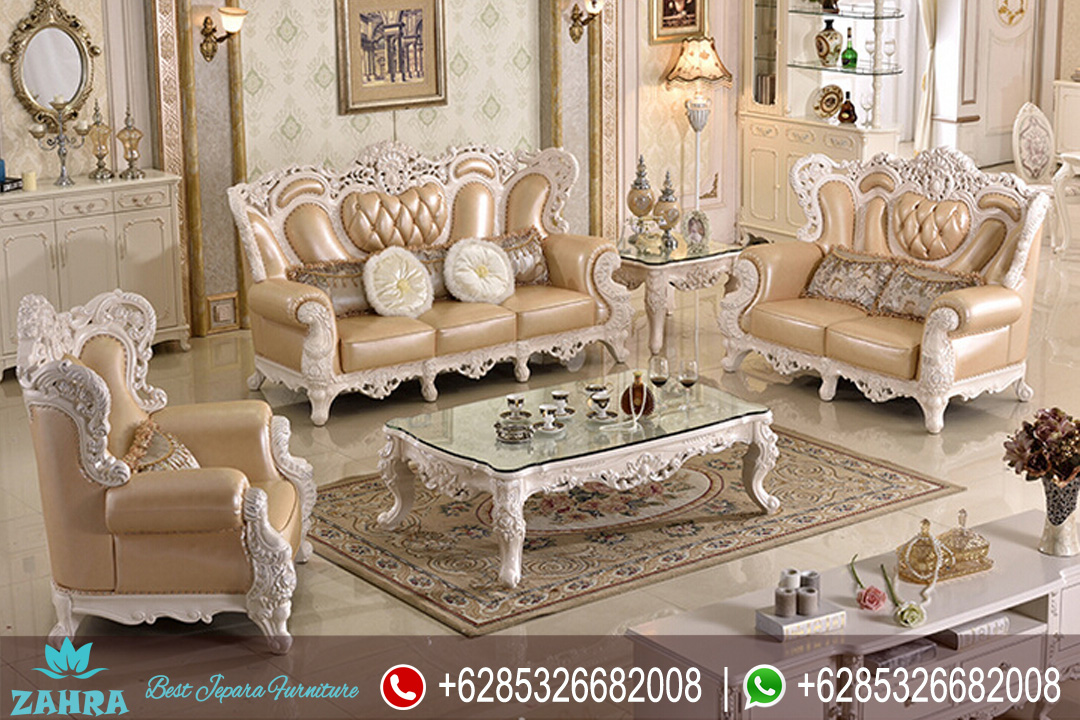Carving Chair: (10, 299, 320, 639), (237, 155, 634, 390), (733, 149, 1049, 417)
Carving Table: (388, 381, 795, 560)
